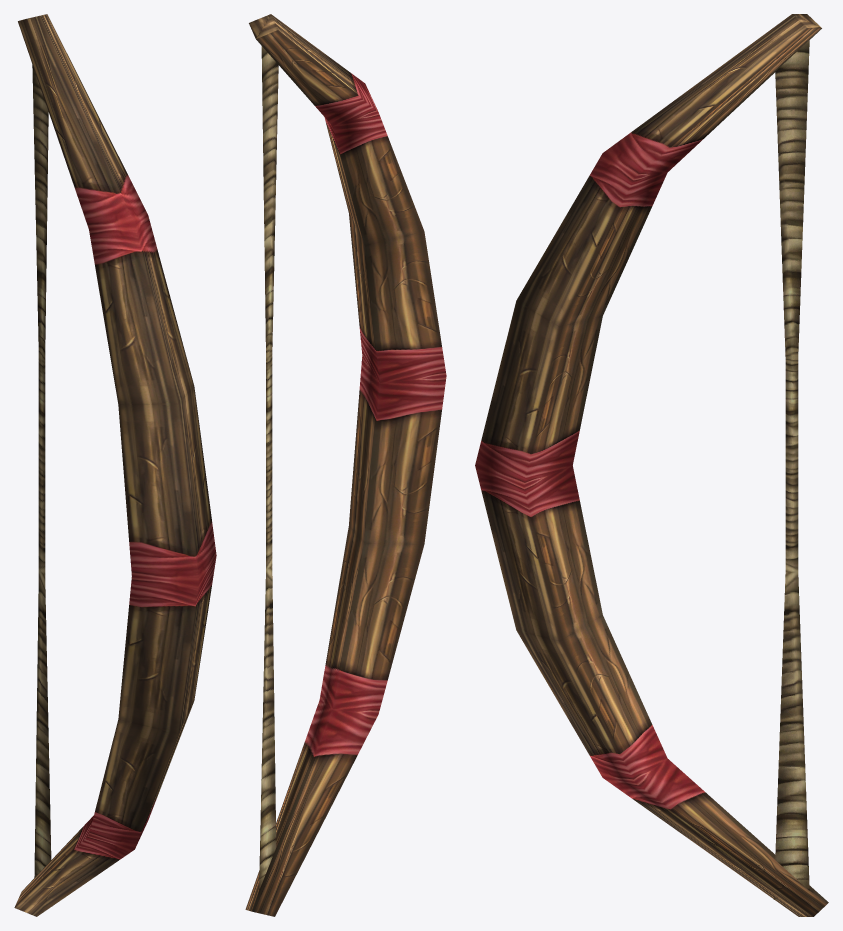
Rendered from wicker_bow.obj.
3 renders of one model, left to right at view 1: azimuth 30°, elevation 25°; view 2: azimuth 150°, elevation 25°; view 3: azimuth 270°, elevation 25°, orthographic.
Visible parts, largest first — view 1: wicker_bow; view 2: wicker_bow; view 3: wicker_bow.
Part boxes in pixels (x1,y1,x2,y2): wicker_bow: (14,14,216,916); wicker_bow: (245,14,446,916); wicker_bow: (475,14,828,916).
Size of the model in its own units: 0.1961 by 2 by 0.7097.
1 material, 1 textured.
